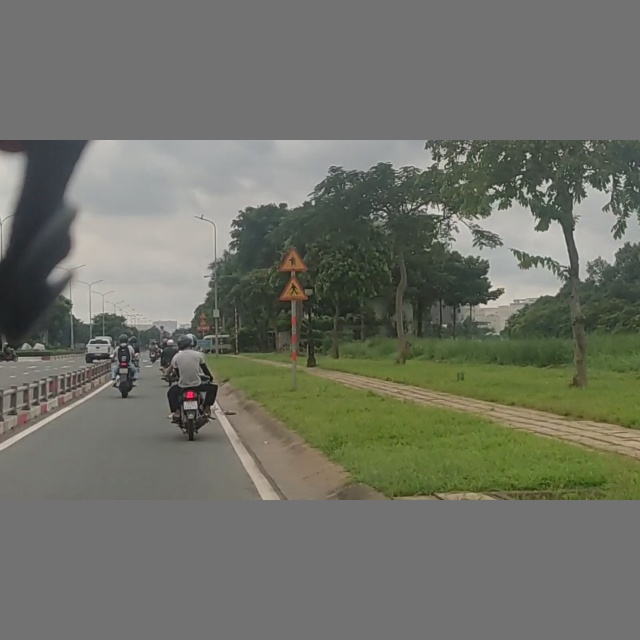W.207: (280, 247, 307, 271)
W.224: (279, 276, 308, 300)
